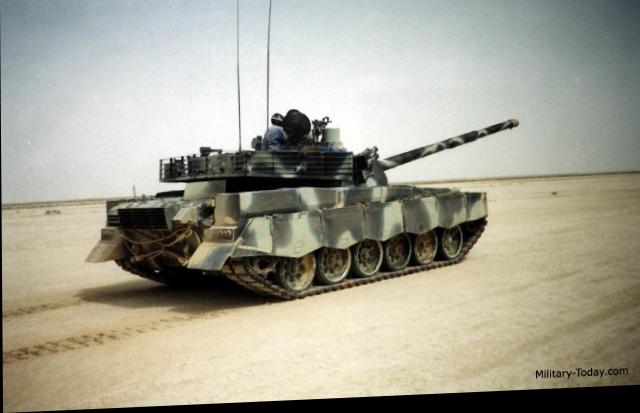tank: (81, 101, 492, 306)
